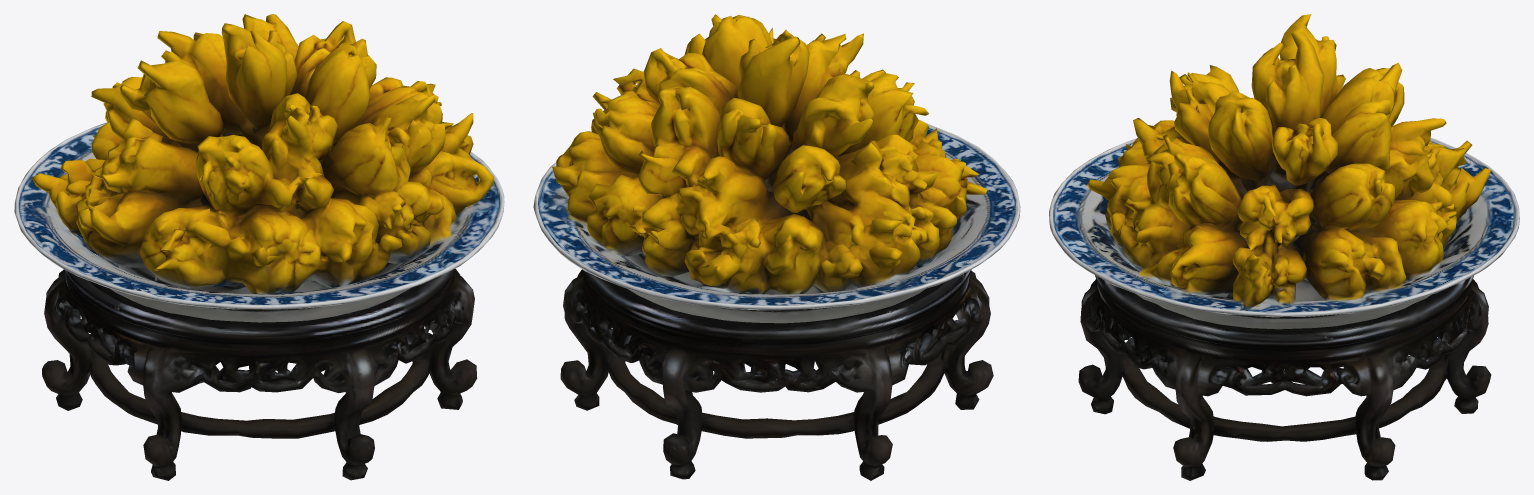
Rendered from f_fopan.glb.
The picture shows the model from 3 angles, left to right: view 1: azimuth 30°, elevation 25°; view 2: azimuth 150°, elevation 25°; view 3: azimuth 270°, elevation 25°; orthographic projection. The views are drawn at different scales.
Visible parts, largest first — view 1: tripo_node_6022a03c-99ff-4dc1-bfc5-5982c7058c17; view 2: tripo_node_6022a03c-99ff-4dc1-bfc5-5982c7058c17; view 3: tripo_node_6022a03c-99ff-4dc1-bfc5-5982c7058c17.
Boxes of the visible parts, <box> form: tripo_node_6022a03c-99ff-4dc1-bfc5-5982c7058c17: <box>14,14,504,480</box>; tripo_node_6022a03c-99ff-4dc1-bfc5-5982c7058c17: <box>533,14,1020,480</box>; tripo_node_6022a03c-99ff-4dc1-bfc5-5982c7058c17: <box>1049,14,1519,480</box>.
Bounding box in the file's own units: 1 × 0.8584 × 0.9985.
1 material, 1 textured.
